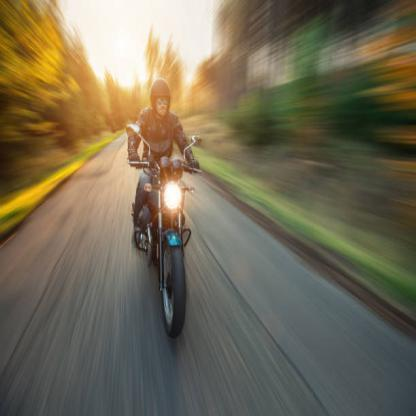Motorcycle: (122, 122, 212, 345)
